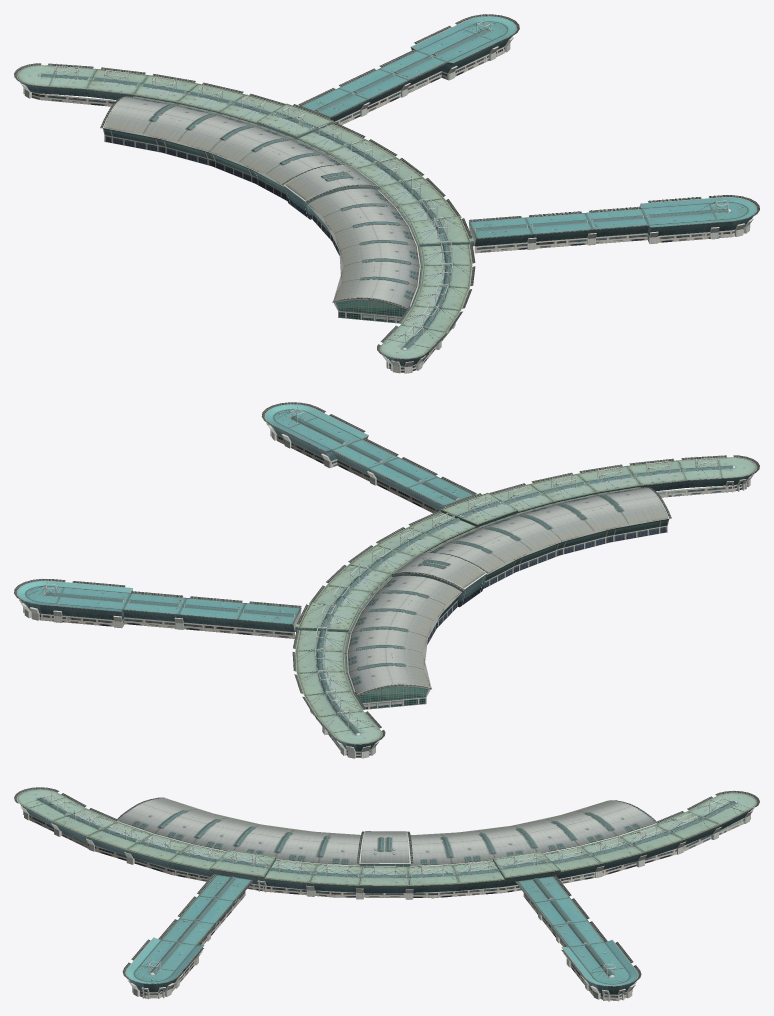
Rendered from terminal1.gltf.
3 renders of one model, top to bottom at view 1: azimuth 30°, elevation 25°; view 2: azimuth 150°, elevation 25°; view 3: azimuth 270°, elevation 25°, orthographic. The views are drawn at different scales.
Parts seen in each view (by area): view 1: node_1, node_11, node_6, node_8, node_13, node_5, node_12, node_4, node_7; view 2: node_1, node_11, node_6, node_8, node_13, node_5, node_12, node_4, node_7; view 3: node_1, node_11, node_6, node_5, node_13, node_12, node_4, node_10.
Boxes of the visible parts, x1,y1,x2,y2 form: node_1: [17, 16, 756, 358]; node_11: [103, 96, 420, 307]; node_6: [19, 35, 754, 366]; node_8: [103, 128, 420, 323]; node_13: [14, 14, 759, 359]; node_5: [32, 46, 743, 372]; node_12: [54, 18, 728, 343]; node_4: [20, 37, 753, 373]; node_7: [132, 96, 423, 306]; node_1: [17, 404, 756, 744]; node_11: [346, 487, 669, 693]; node_6: [21, 420, 751, 751]; node_8: [346, 519, 669, 709]; node_13: [14, 402, 759, 744]; node_5: [39, 434, 747, 757]; node_12: [30, 406, 719, 729]; node_4: [19, 422, 753, 758]; node_7: [344, 487, 641, 692]; node_1: [17, 789, 756, 986]; node_11: [117, 798, 656, 866]; node_6: [21, 804, 752, 994]; node_5: [29, 814, 744, 1000]; node_13: [14, 787, 759, 986]; node_12: [26, 792, 747, 979]; node_4: [19, 803, 754, 1001]; node_10: [116, 797, 656, 864].
Bounding box in the file's own units: 599 × 39.46 × 938.
